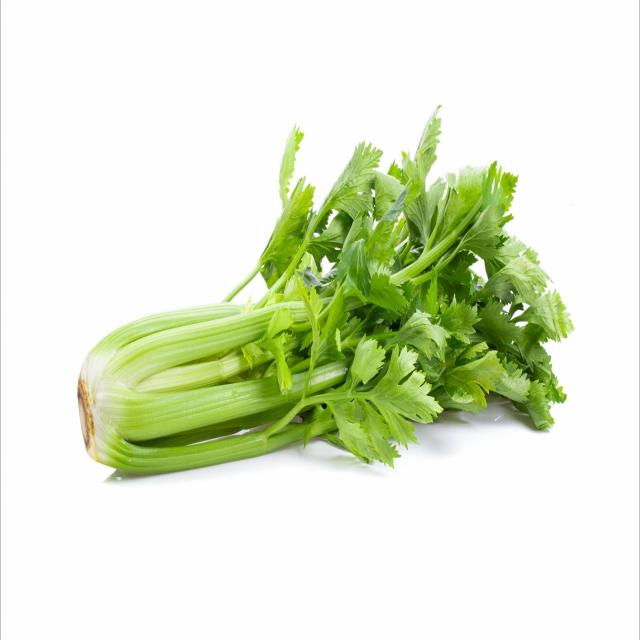celery: (75, 95, 584, 482)
